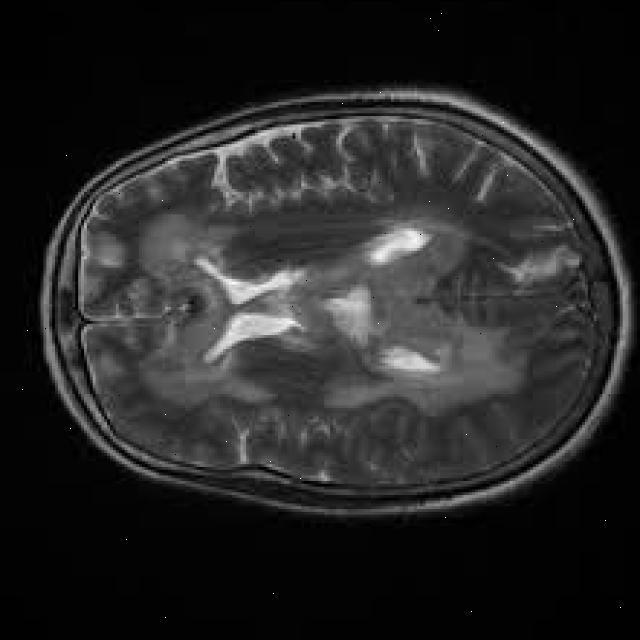No_Tumor: (41, 90, 633, 515)
